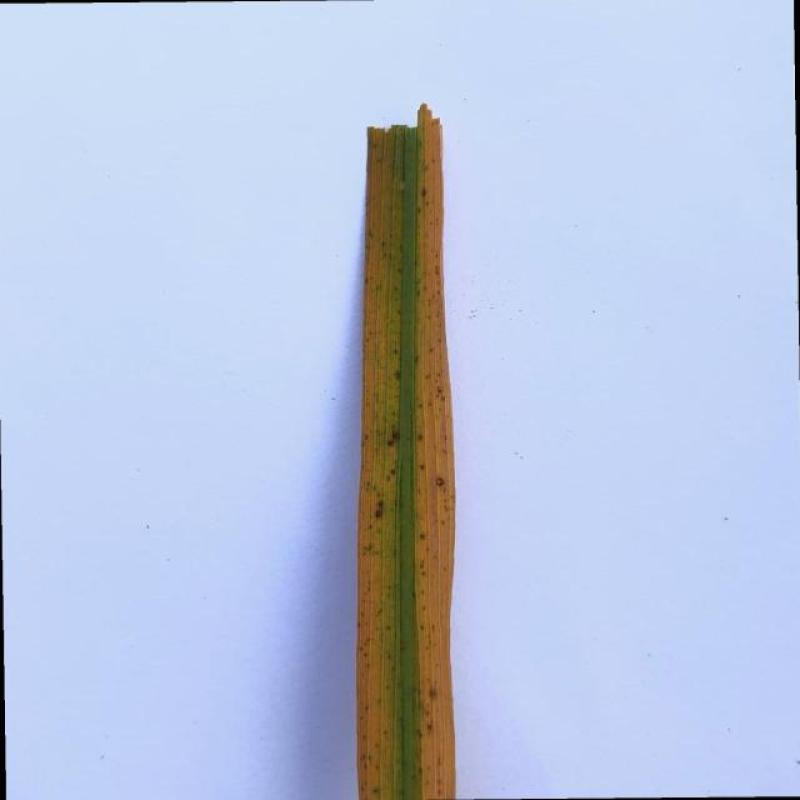Rice Tungro: (418, 102, 458, 800), (357, 117, 396, 800)
